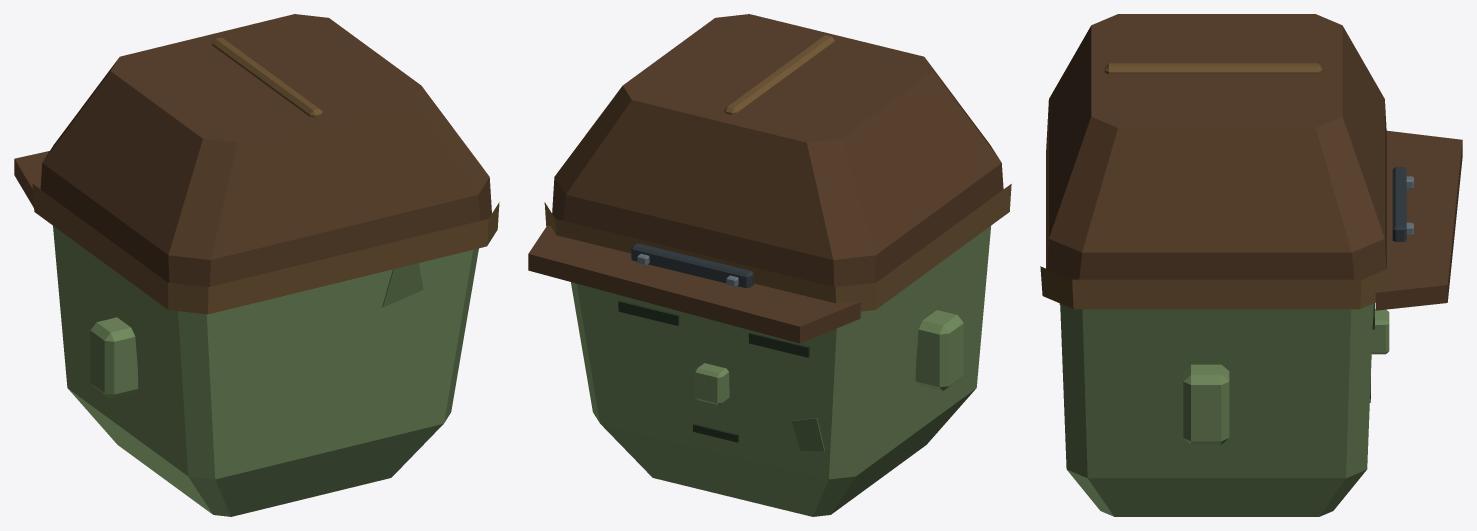
File: Head.glb
3 renders of one model, left to right at view 1: azimuth 30°, elevation 25°; view 2: azimuth 150°, elevation 25°; view 3: azimuth 270°, elevation 25°, orthographic. The views are drawn at different scales.
Parts seen in each view (by area): view 1: Sculpture; view 2: Sculpture; view 3: Sculpture.
Boxes of the visible parts, <box> form: Sculpture: <box>14,14,499,516</box>; Sculpture: <box>528,14,1011,516</box>; Sculpture: <box>1040,14,1462,516</box>.
Bounding box in the file's own units: 0.599 × 0.6395 × 0.598.
